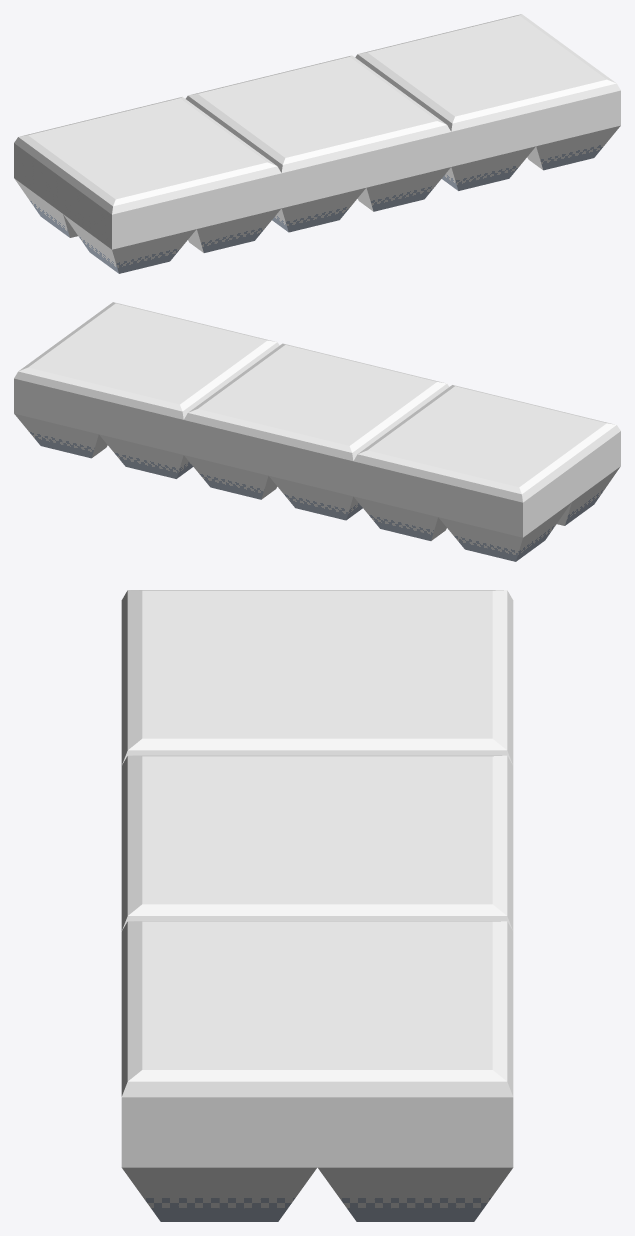
Rendered from CloudsSemiSolid.fbx.
The picture shows the model from 3 angles, top to bottom: view 1: azimuth 30°, elevation 25°; view 2: azimuth 150°, elevation 25°; view 3: azimuth 270°, elevation 25°; orthographic projection. The views are drawn at different scales.
Parts seen in each view (by area): view 1: Cloud; view 2: Cloud; view 3: Cloud.
Part boxes in pixels (bbox=[...]): Cloud: bbox=[14, 14, 620, 273]; Cloud: bbox=[14, 302, 620, 561]; Cloud: bbox=[121, 590, 513, 1221].
Bounding box in the file's own units: 600 × 90 × 200.
